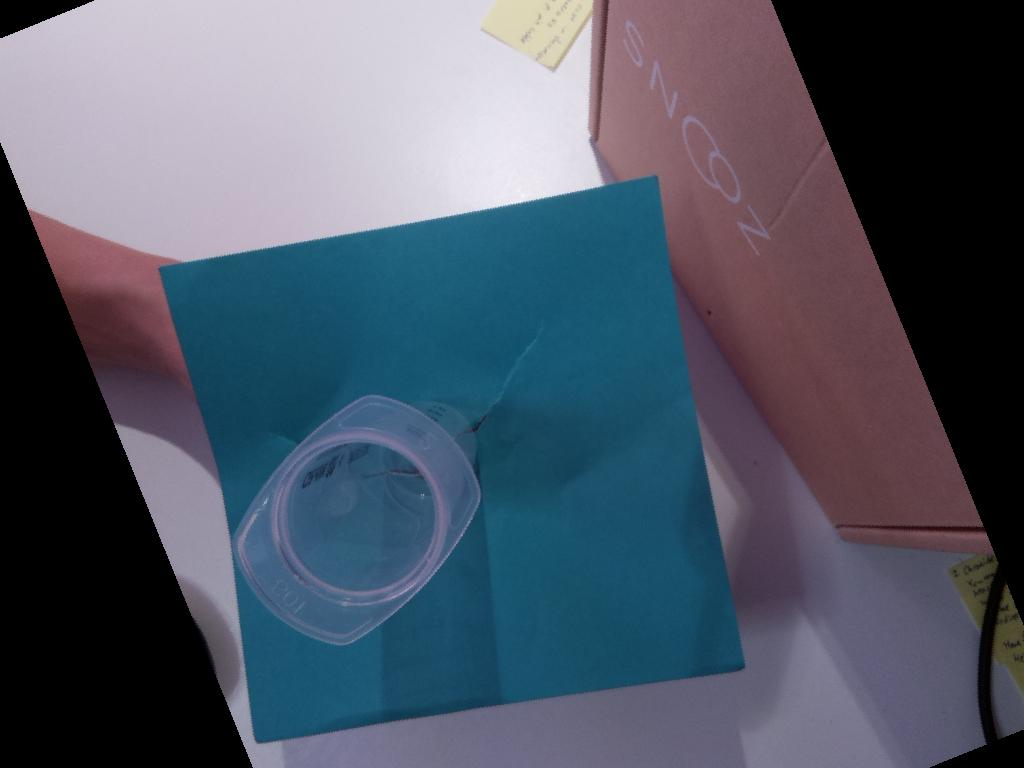clean: (232, 391, 484, 645)
